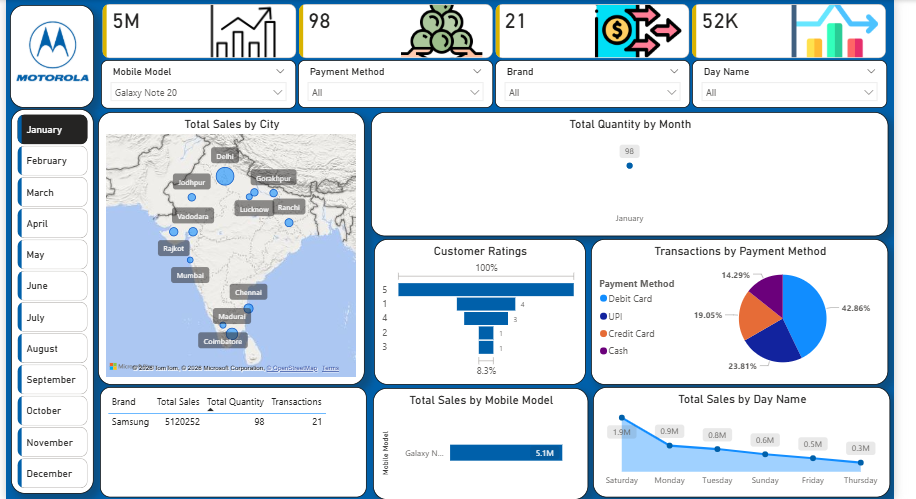

The dashboard page shown, as its layout file describes it:
{"tool":"powerbi","page":{"name":"Page 1","canvas":[1280,720],"ordinal":0},"visuals":[{"type":"shape","box":[5.5,6.9,120.8,148.2],"z":0},{"type":"image","box":[9.6,16.5,113.9,116.6],"z":1000},{"type":"shape","box":[6.9,156.4,119.4,554.4],"z":2000},{"type":"advancedSlicerVisual","fields":{"Values":["Sales_Data.Date.Variation.Date Hierarchy.Month"]},"box":[11,160.5,111.1,548.9],"z":3000},{"type":"cardVisual","fields":{"Data":["Sales_Data.Total Sales","Sales_Data.Total Quantity","Sales_Data.Transactions","Sales_Data.Average"]},"box":[134,5.6,1140.1,83.7],"z":4000},{"type":"map","fields":{"Category":["Sales_Data.City"],"Size":["Sales_Data.Total Sales"]},"box":[132.9,160.8,384.1,393.1],"z":5000},{"type":"lineChart","fields":{"Y":["Sales_Data.Total Quantity"],"Category":["Sales_Data.Date.Variation.Date Hierarchy.Month","Sales_Data.Date.Variation.Date Hierarchy.Day"]},"box":[525.9,160.8,744.8,178.7],"z":6000},{"type":"clusteredBarChart","fields":{"Category":["Sales_Data.Mobile Model"],"Y":["Sales_Data.Total Sales"]},"box":[528.3,558.5,310.1,160.5],"z":7000},{"type":"pieChart","fields":{"Category":["Sales_Data.Payment Method"],"Y":["Sales_Data.Transactions"]},"box":[842.5,344.4,428.1,209.9],"z":8000},{"type":"funnel","title":"Customer Ratings","fields":{"Category":["Sales_Data.Customer Ratings"],"Y":["CountNonNull(Sales_Data.Customer Ratings)"]},"box":[529.7,344.4,304.6,209.9],"z":9000},{"type":"areaChart","fields":{"Category":["Sales_Data.Day Name"],"Y":["Sales_Data.Total Sales"]},"box":[845.3,557.1,428.1,159.2],"z":10000},{"type":"tableEx","fields":{"Values":["Sales_Data.Brand","Sales_Data.Total Sales","Sales_Data.Total Quantity","Sales_Data.Transactions"]},"box":[135.8,557.1,384.2,159.2],"z":11000},{"type":"slicer","fields":{"Values":["Sales_Data.Mobile Model"]},"box":[136.2,87.1,281.4,70.3],"z":12000},{"type":"slicer","fields":{"Values":["Sales_Data.Payment Method"]},"box":[421,87.1,281.4,69.2],"z":13000},{"type":"slicer","fields":{"Values":["Sales_Data.Brand"]},"box":[703.5,87.1,281.4,69.2],"z":14000},{"type":"slicer","fields":{"Values":["Sales_Data.Day Name"]},"box":[988.2,87.1,281.4,69.2],"z":15000}]}

Visuals, with their boxes in screenshot pixels (x1, y1, x2, y2):
shape: 6, 0, 92, 103
image: 9, 5, 90, 87
shape: 7, 104, 92, 496
advancedSlicerVisual - Sales_Data.Date.Variation.Date Hierarchy.Month: 10, 106, 89, 495
cardVisual - Sales_Data.Total Sales x Sales_Data.Total Quantity: 97, 0, 904, 56
map - Sales_Data.City x Sales_Data.Total Sales: 96, 107, 368, 385
lineChart - Sales_Data.Total Quantity x Sales_Data.Date.Variation.Date Hierarchy.Month: 375, 107, 902, 233
clusteredBarChart - Sales_Data.Mobile Model x Sales_Data.Total Sales: 376, 388, 596, 498
pieChart - Sales_Data.Payment Method x Sales_Data.Transactions: 599, 237, 902, 385
"Customer Ratings" funnel: 377, 237, 593, 385
areaChart - Sales_Data.Day Name x Sales_Data.Total Sales: 601, 387, 904, 498
tableEx - Sales_Data.Brand x Sales_Data.Total Sales: 99, 387, 371, 498
slicer - Sales_Data.Mobile Model: 99, 55, 298, 104
slicer - Sales_Data.Payment Method: 300, 55, 500, 103
slicer - Sales_Data.Brand: 500, 55, 700, 103
slicer - Sales_Data.Day Name: 702, 55, 901, 103
